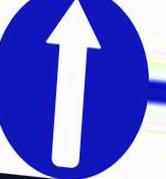forward: (1, 1, 148, 179)
